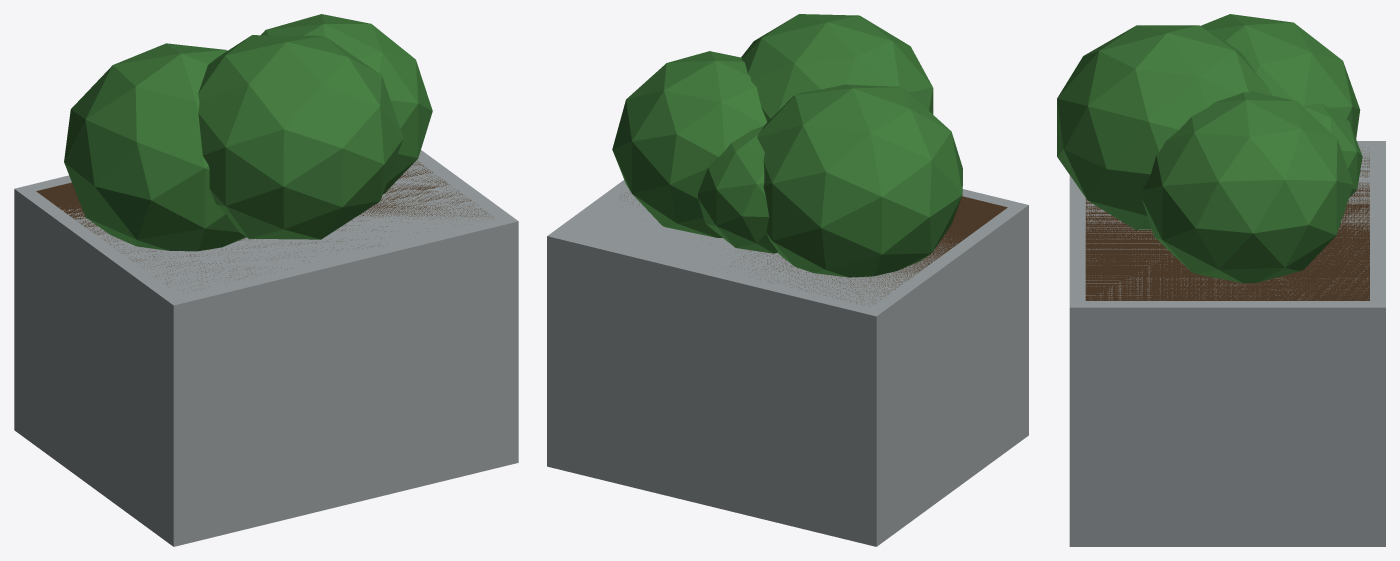
Rendered from planter_01.glb.
The picture shows the model from 3 angles, left to right: view 1: azimuth 30°, elevation 25°; view 2: azimuth 150°, elevation 25°; view 3: azimuth 270°, elevation 25°; orthographic projection. The views are drawn at different scales.
Visible parts, largest first — view 1: planter_01; view 2: planter_01; view 3: planter_01.
Boxes of the visible parts, bbox=[...] form: planter_01: bbox=[14, 14, 518, 546]; planter_01: bbox=[547, 14, 1028, 546]; planter_01: bbox=[1057, 14, 1385, 546].
Size of the model in its own units: 0.8298 by 0.9731 by 0.6816.
